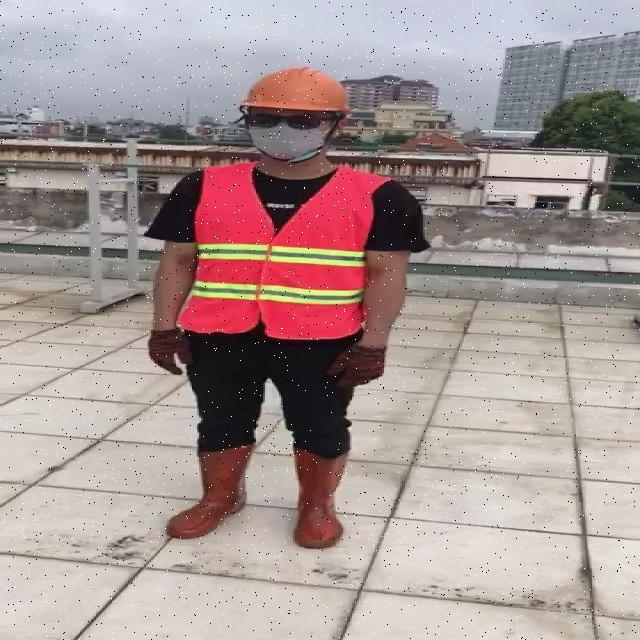Hard_hat: (231, 64, 355, 128)
Person: (133, 65, 426, 612)
Vest: (185, 161, 373, 343)
